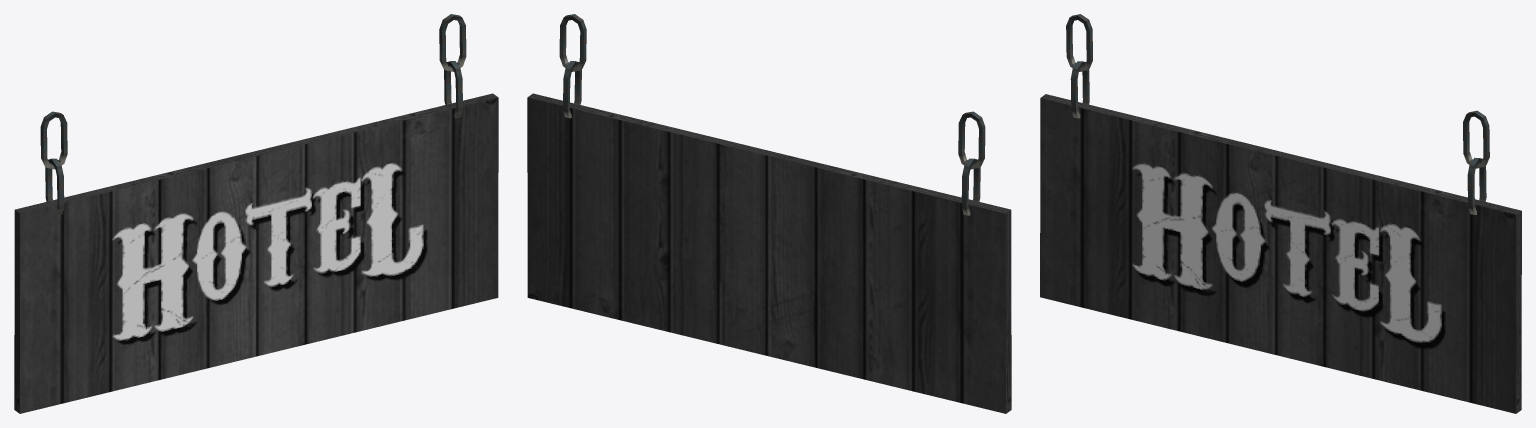
The model's file is signs-04.fbx.
3 views of the same model, side by side, from view 1: azimuth 30°, elevation 25°; view 2: azimuth 150°, elevation 25°; view 3: azimuth 330°, elevation 25° (orthographic).
Visible parts, largest first — view 1: Cube.187; view 2: Cube.187; view 3: Cube.187.
Boxes of the visible parts, x1=… form: Cube.187: x1=14, y1=14, x2=498, y2=413; Cube.187: x1=527, y1=14, x2=1011, y2=413; Cube.187: x1=1040, y1=14, x2=1521, y2=413.
Size of the model in its own units: 1.61 by 0.9384 by 0.0806.
